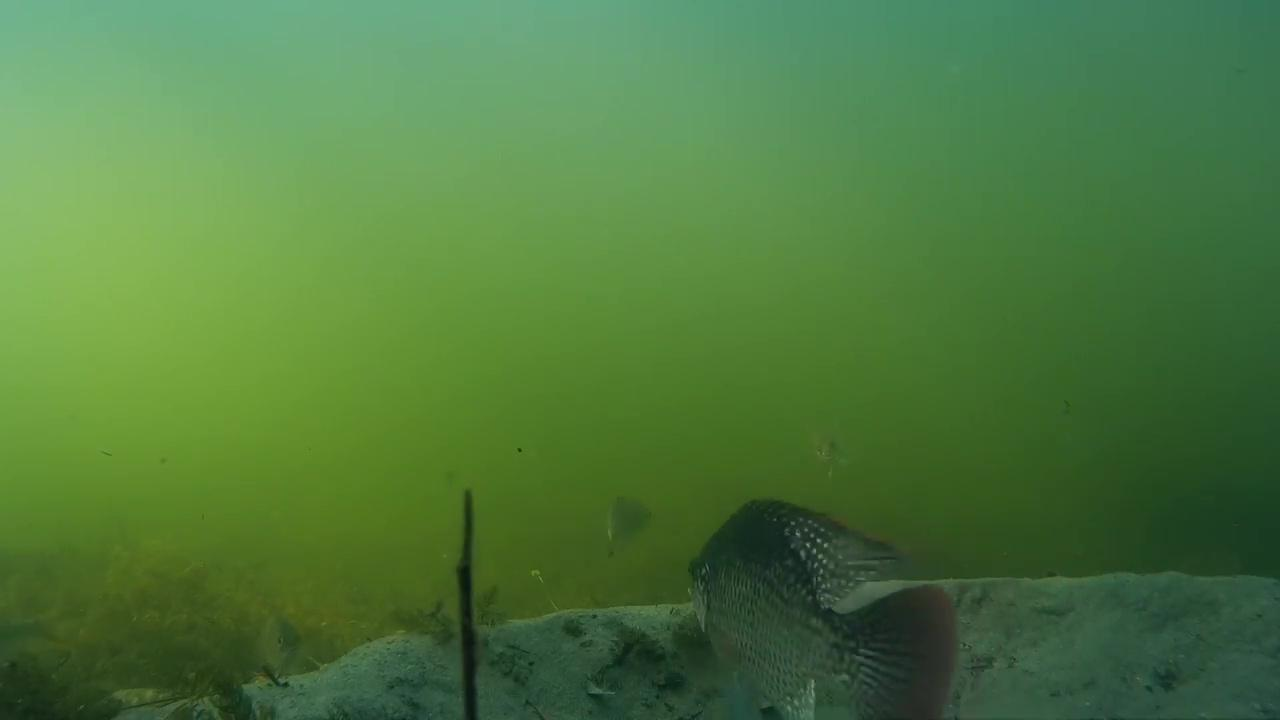Tilapia: (689, 492, 952, 720), (600, 486, 665, 554), (805, 424, 856, 476)
